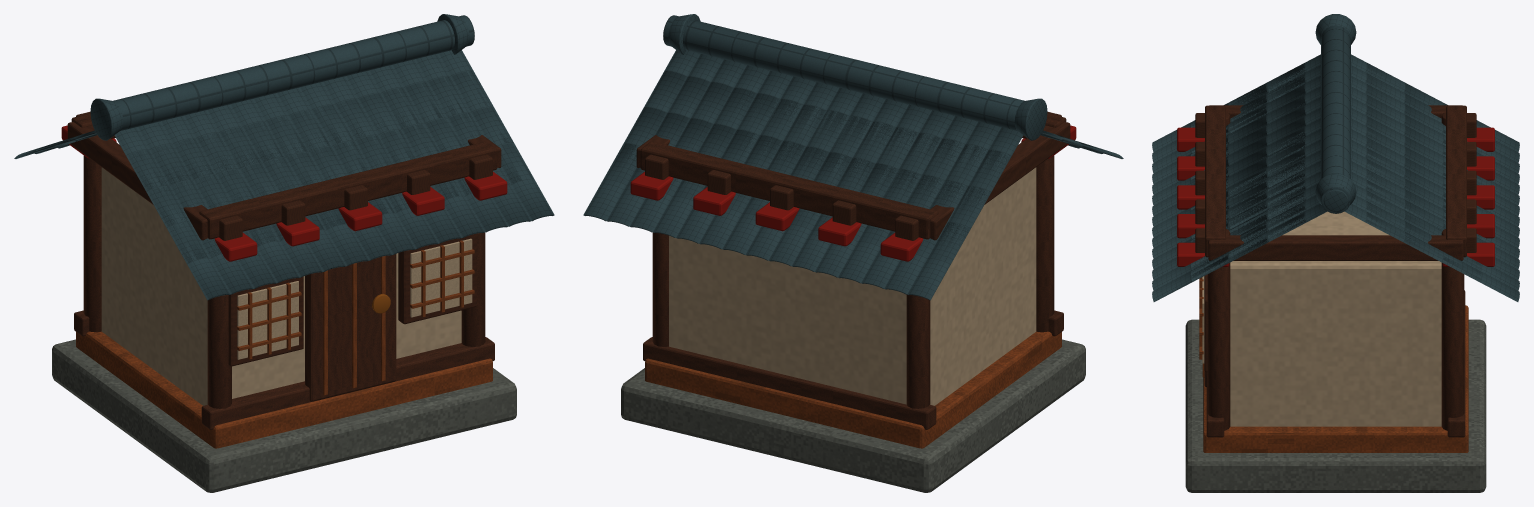
Rendered from building_house.glb.
3 renders of one model, left to right at view 1: azimuth 30°, elevation 25°; view 2: azimuth 150°, elevation 25°; view 3: azimuth 270°, elevation 25°, orthographic. The views are drawn at different scales.
Parts seen in each view (by area): view 1: StoneFoundation, PlasterWall, RaisedFloor, RoofRidge, FrontDoor, TopBeam, SillBeam, TimberPost.001, WindowPaper.001, WindowPaper, SideBeam, TimberPost (+72 smaller); view 2: PlasterWall, StoneFoundation, RaisedFloor, RoofRidge, TopBeam.001, SillBeam.001, TimberPost, TimberPost.001, SideBeam, TimberPost.003, RoofTile.063, RoofTile.119 (+65 smaller); view 3: PlasterWall, StoneFoundation, RaisedFloor, SideBeam.001, RoofRidge, TimberPost.002, TimberPost.003, TopBeam, TopBeam.001, RidgeEnd.001, RoofTile.118, RoofTile.059 (+82 smaller).
Part boxes in pixels (bbox=[...]): StoneFoundation: bbox=[52, 339, 516, 492]; PlasterWall: bbox=[101, 167, 461, 405]; RaisedFloor: bbox=[76, 331, 492, 448]; RoofRidge: bbox=[113, 15, 474, 130]; FrontDoor: bbox=[305, 254, 396, 401]; TopBeam: bbox=[199, 141, 497, 239]; SillBeam: bbox=[201, 337, 494, 429]; TimberPost.001: bbox=[83, 155, 101, 332]; WindowPaper.001: bbox=[410, 238, 472, 317]; WindowPaper: bbox=[237, 281, 298, 359]; SideBeam: bbox=[67, 121, 207, 240]; TimberPost: bbox=[207, 295, 231, 408]; PlasterWall: bbox=[669, 167, 1036, 405]; StoneFoundation: bbox=[621, 339, 1085, 492]; RaisedFloor: bbox=[645, 331, 1061, 448]; RoofRidge: bbox=[663, 15, 1024, 130]; TopBeam.001: bbox=[640, 141, 938, 239]; SillBeam.001: bbox=[643, 337, 936, 429]; TimberPost: bbox=[1036, 155, 1054, 332]; TimberPost.001: bbox=[906, 294, 930, 408]; SideBeam: bbox=[930, 121, 1070, 240]; TimberPost.003: bbox=[652, 232, 668, 346]; RoofTile.063: bbox=[907, 222, 970, 300]; RoofTile.119: bbox=[583, 143, 637, 221]; PlasterWall: bbox=[1230, 211, 1441, 426]; StoneFoundation: bbox=[1185, 319, 1486, 492]; RaisedFloor: bbox=[1203, 305, 1468, 452]; SideBeam.001: bbox=[1208, 235, 1463, 260]; RoofRidge: bbox=[1321, 25, 1350, 213]; TimberPost.002: bbox=[1207, 229, 1230, 430]; TimberPost.003: bbox=[1441, 229, 1464, 430]; TopBeam: bbox=[1205, 105, 1225, 257]; TopBeam.001: bbox=[1446, 105, 1466, 257]; RidgeEnd.001: bbox=[1315, 173, 1356, 211]; RoofTile.118: bbox=[1404, 232, 1481, 281]; RoofTile.059: bbox=[1152, 252, 1228, 301].
Bounding box in the file's own units: 2.29 × 2.06 × 2.1.
Materials: 7 (7 with a texture image).
